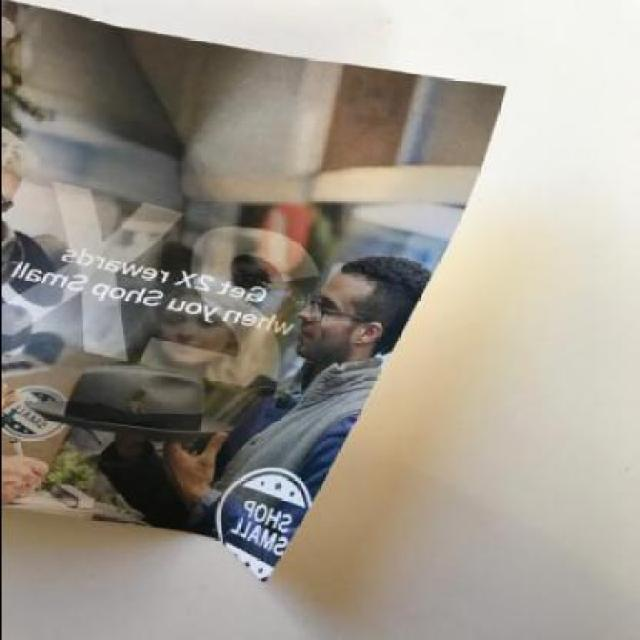PAPER: (2, 0, 503, 583)
